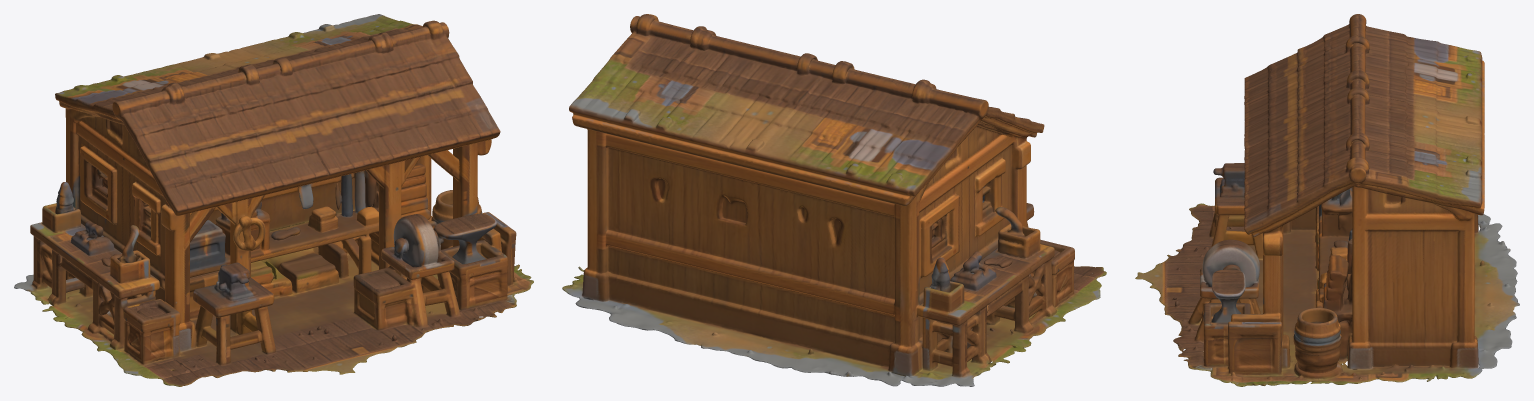
The model's file is workshop.glb.
3 renders of one model, left to right at view 1: azimuth 30°, elevation 25°; view 2: azimuth 150°, elevation 25°; view 3: azimuth 270°, elevation 25°, orthographic. The views are drawn at different scales.
Visible parts, largest first — view 1: tripo_node_16b6ad0e-344a-42d2-af02-5f13238b3590; view 2: tripo_node_16b6ad0e-344a-42d2-af02-5f13238b3590; view 3: tripo_node_16b6ad0e-344a-42d2-af02-5f13238b3590.
Part boxes in pixels (<box>): tripo_node_16b6ad0e-344a-42d2-af02-5f13238b3590: <box>14,14,533,386</box>; tripo_node_16b6ad0e-344a-42d2-af02-5f13238b3590: <box>562,14,1106,386</box>; tripo_node_16b6ad0e-344a-42d2-af02-5f13238b3590: <box>1135,14,1519,386</box>.
Size of the model in its own units: 1 by 0.5229 by 0.8546.
Materials: 1 (1 with a texture image).
